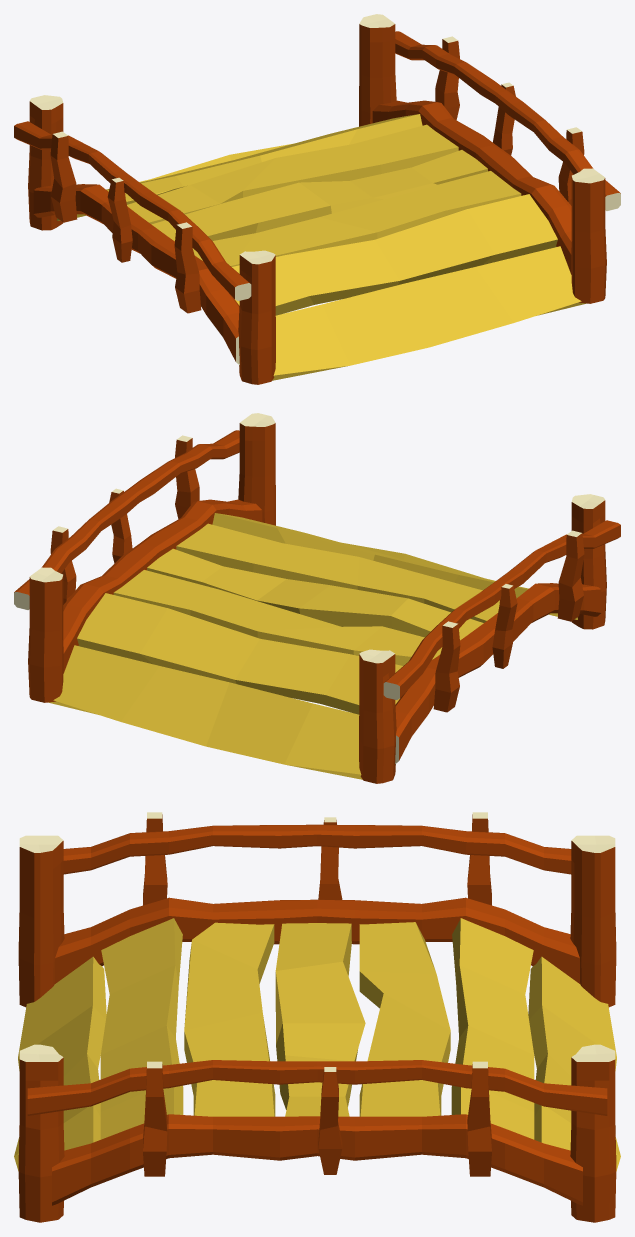
Rendered from WoodenBridge.fbx.
The picture shows the model from 3 angles, top to bottom: view 1: azimuth 30°, elevation 25°; view 2: azimuth 150°, elevation 25°; view 3: azimuth 270°, elevation 25°; orthographic projection. The views are drawn at different scales.
Visible parts, largest first — view 1: Cube.004, Cube.006, Cube.007, Cube.001, Cube, Cube.002, Cube.008, Cube.003, Cube.005; view 2: Cube.004, Cube.006, Cube.007, Cube.001, Cube, Cube.002, Cube.008, Cube.003, Cube.005; view 3: Cube, Cube.007, Cube.001, Cube.006, Cube.002, Cube.004, Cube.008, Cube.003, Cube.005.
Part boxes in pixels (x1=…): Cube.004: x1=57, y1=144, x2=586, y2=380; Cube.006: x1=106, y1=114, x2=557, y2=315; Cube.007: x1=127, y1=124, x2=521, y2=266; Cube.001: x1=28, y1=14, x2=606, y2=384; Cube: x1=33, y1=100, x2=571, y2=365; Cube.002: x1=14, y1=31, x2=620, y2=300; Cube.008: x1=151, y1=150, x2=487, y2=241; Cube.003: x1=50, y1=36, x2=584, y2=313; Cube.005: x1=107, y1=82, x2=515, y2=262; Cube.004: x1=48, y1=543, x2=577, y2=779; Cube.006: x1=77, y1=513, x2=528, y2=714; Cube.007: x1=113, y1=523, x2=499, y2=665; Cube.001: x1=28, y1=413, x2=606, y2=783; Cube: x1=63, y1=499, x2=601, y2=764; Cube.002: x1=14, y1=430, x2=620, y2=699; Cube.008: x1=147, y1=548, x2=483, y2=640; Cube.003: x1=50, y1=435, x2=584, y2=712; Cube.005: x1=109, y1=488, x2=517, y2=668; Cube: x1=52, y1=897, x2=582, y2=1205; Cube.007: x1=184, y1=922, x2=450, y2=1116; Cube.001: x1=18, y1=835, x2=616, y2=1222; Cube.006: x1=100, y1=918, x2=534, y2=1139; Cube.002: x1=27, y1=824, x2=607, y2=1115; Cube.004: x1=14, y1=956, x2=620, y2=1171; Cube.008: x1=275, y1=923, x2=365, y2=1116; Cube.003: x1=143, y1=812, x2=491, y2=1176; Cube.005: x1=318, y1=817, x2=342, y2=1174.
Size of the model in its own units: 597 by 593 by 197.
